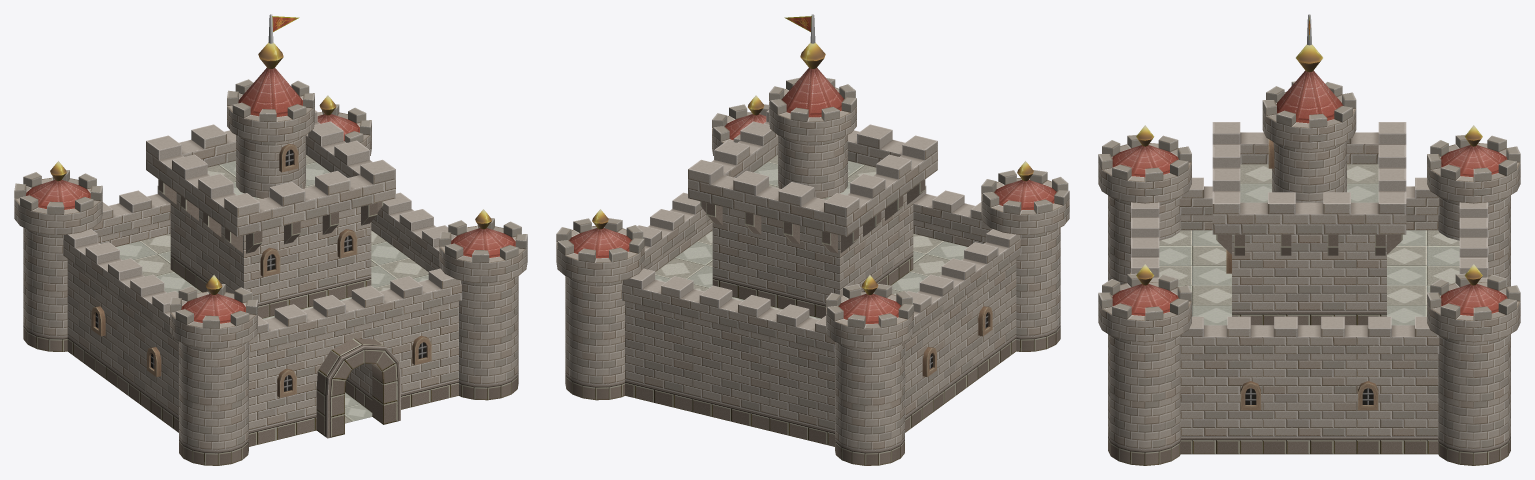
Rendered from Castle M.fbx.
3 renders of one model, left to right at view 1: azimuth 30°, elevation 25°; view 2: azimuth 150°, elevation 25°; view 3: azimuth 270°, elevation 25°, orthographic. The views are drawn at different scales.
Visible parts, largest first — view 1: castle; view 2: castle; view 3: castle.
Boxes of the visible parts, bbox=[...] form: castle: bbox=[14, 14, 527, 465]; castle: bbox=[556, 14, 1069, 465]; castle: bbox=[1098, 14, 1520, 465].
Size of the model in its own units: 9 by 8.62 by 9.
